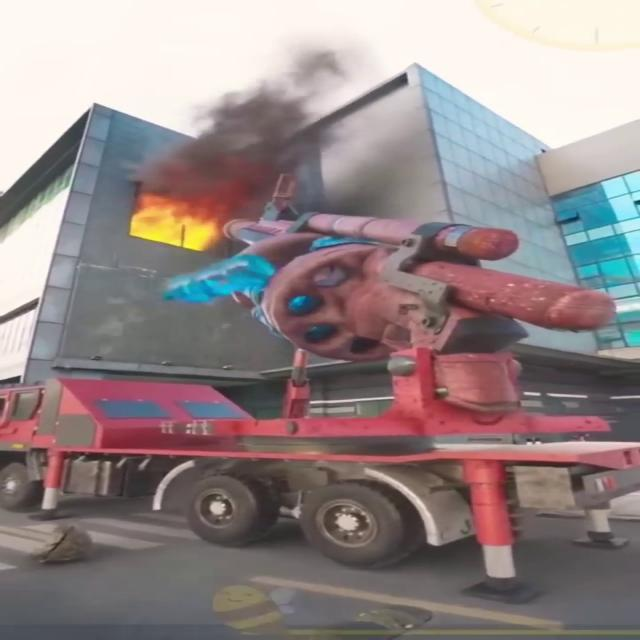Fire: (121, 186, 232, 250)
Smoke: (142, 15, 444, 199)
